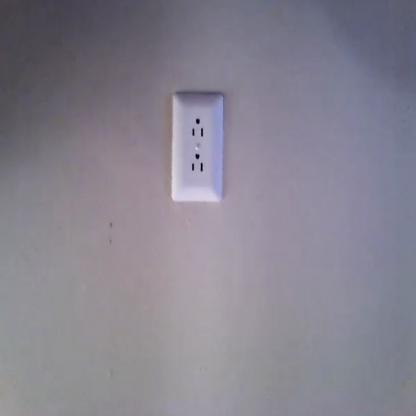OUTLET: (170, 92, 226, 203)
